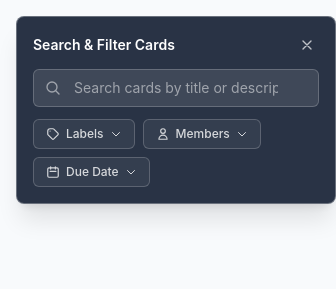
Test: CardSearchFilter › dropdown behavior › closes dropdown when clicking outside
This screenshot has width=336, height=289.
Note: Open dropdown
What coordinates should you click on to do the following:
click the button "Labels"
I would click on:
 (84, 134)
Its box is [33,119,135,149].
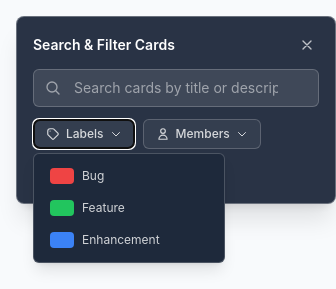
Check: the text "Bug" is shown, box [82,168,104,183]
Note: Click outside (on the panel title)
What coordinates should you click on to do the following:
click the heading "Search & Filter Cards"
I would click on:
 (104, 45)
Its box is [33,35,175,55].
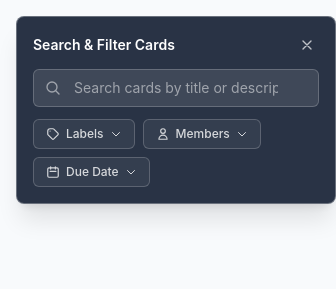
Check: the button "Bug" is gone
